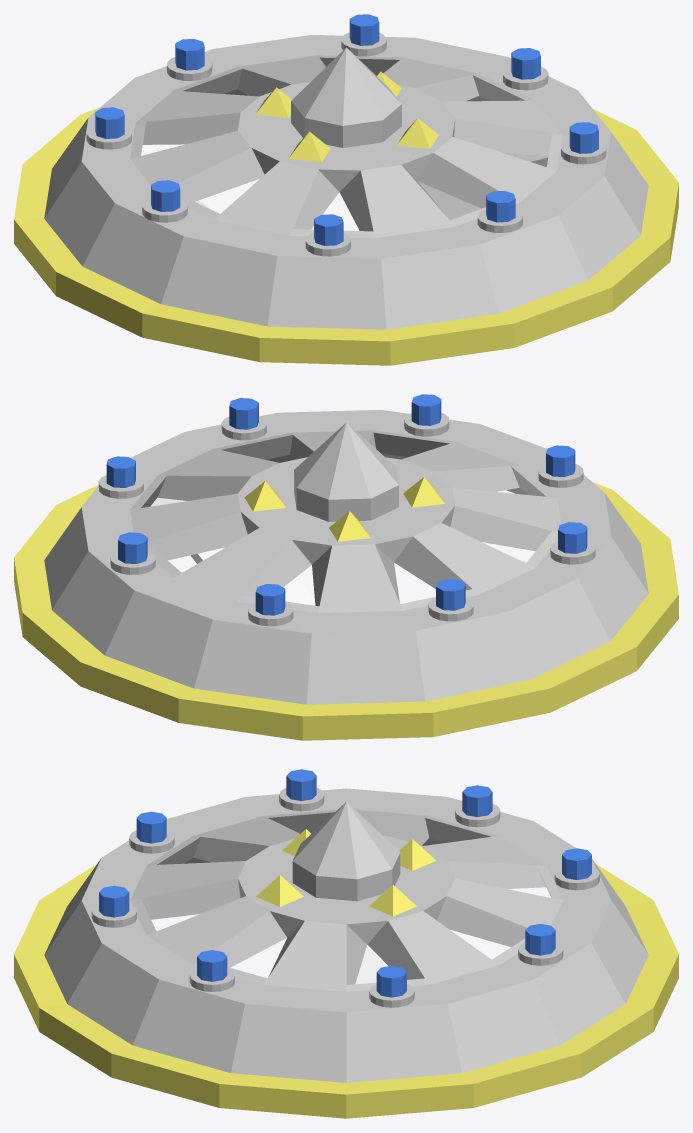
File: Shield_22_e_metal.fbx
The picture shows the model from 3 angles, top to bottom: view 1: azimuth 30°, elevation 25°; view 2: azimuth 150°, elevation 25°; view 3: azimuth 270°, elevation 25°; orthographic projection.
Visible parts, largest first — view 1: Circle.154, Circle.171, Plane.154, Circle.157, Circle.169, Circle.160, Circle.161, Circle.165, Circle.168, Circle.164, Circle.156, Cone.264 (+10 smaller); view 2: Circle.154, Circle.171, Plane.154, Circle.164, Circle.156, Circle.169, Circle.161, Circle.168, Circle.160, Circle.165, Circle.157, Cone.263 (+10 smaller); view 3: Circle.154, Circle.171, Circle.165, Circle.161, Circle.164, Circle.160, Circle.169, Circle.168, Circle.157, Circle.156, Cone.264, Cone.263 (+10 smaller).
Boxes of the visible parts, <box> form: Circle.154: <box>44,35,648,329</box>; Circle.171: <box>14,107,678,365</box>; Plane.154: <box>195,153,548,220</box>; Circle.157: <box>349,14,379,45</box>; Circle.169: <box>95,107,124,138</box>; Circle.160: <box>511,48,540,79</box>; Circle.161: <box>569,122,598,153</box>; Circle.165: <box>314,214,343,245</box>; Circle.168: <box>151,180,180,211</box>; Circle.164: <box>486,190,515,222</box>; Circle.156: <box>175,39,204,70</box>; Cone.264: <box>397,118,438,148</box>; Circle.154: <box>44,410,648,704</box>; Circle.171: <box>14,482,678,740</box>; Plane.154: <box>150,497,526,605</box>; Circle.164: <box>411,394,441,425</box>; Circle.156: <box>255,584,285,615</box>; Circle.169: <box>436,579,465,610</box>; Circle.161: <box>229,398,258,429</box>; Circle.168: <box>558,522,587,553</box>; Circle.160: <box>106,456,135,487</box>; Circle.165: <box>546,445,575,476</box>; Circle.157: <box>118,532,147,563</box>; Cone.263: <box>244,481,286,511</box>; Circle.154: <box>44,788,648,1082</box>; Circle.171: <box>14,864,678,1118</box>; Circle.165: <box>136,811,166,843</box>; Circle.161: <box>197,950,227,981</box>; Circle.164: <box>99,885,129,917</box>; Circle.160: <box>376,965,406,997</box>; Circle.169: <box>462,785,492,816</box>; Circle.168: <box>286,769,316,800</box>; Circle.157: <box>525,924,555,955</box>; Circle.156: <box>562,848,591,879</box>; Cone.264: <box>256,875,303,906</box>; Cone.263: <box>369,885,416,916</box>.
Size of the model in its own units: 55 by 22.06 by 55.
